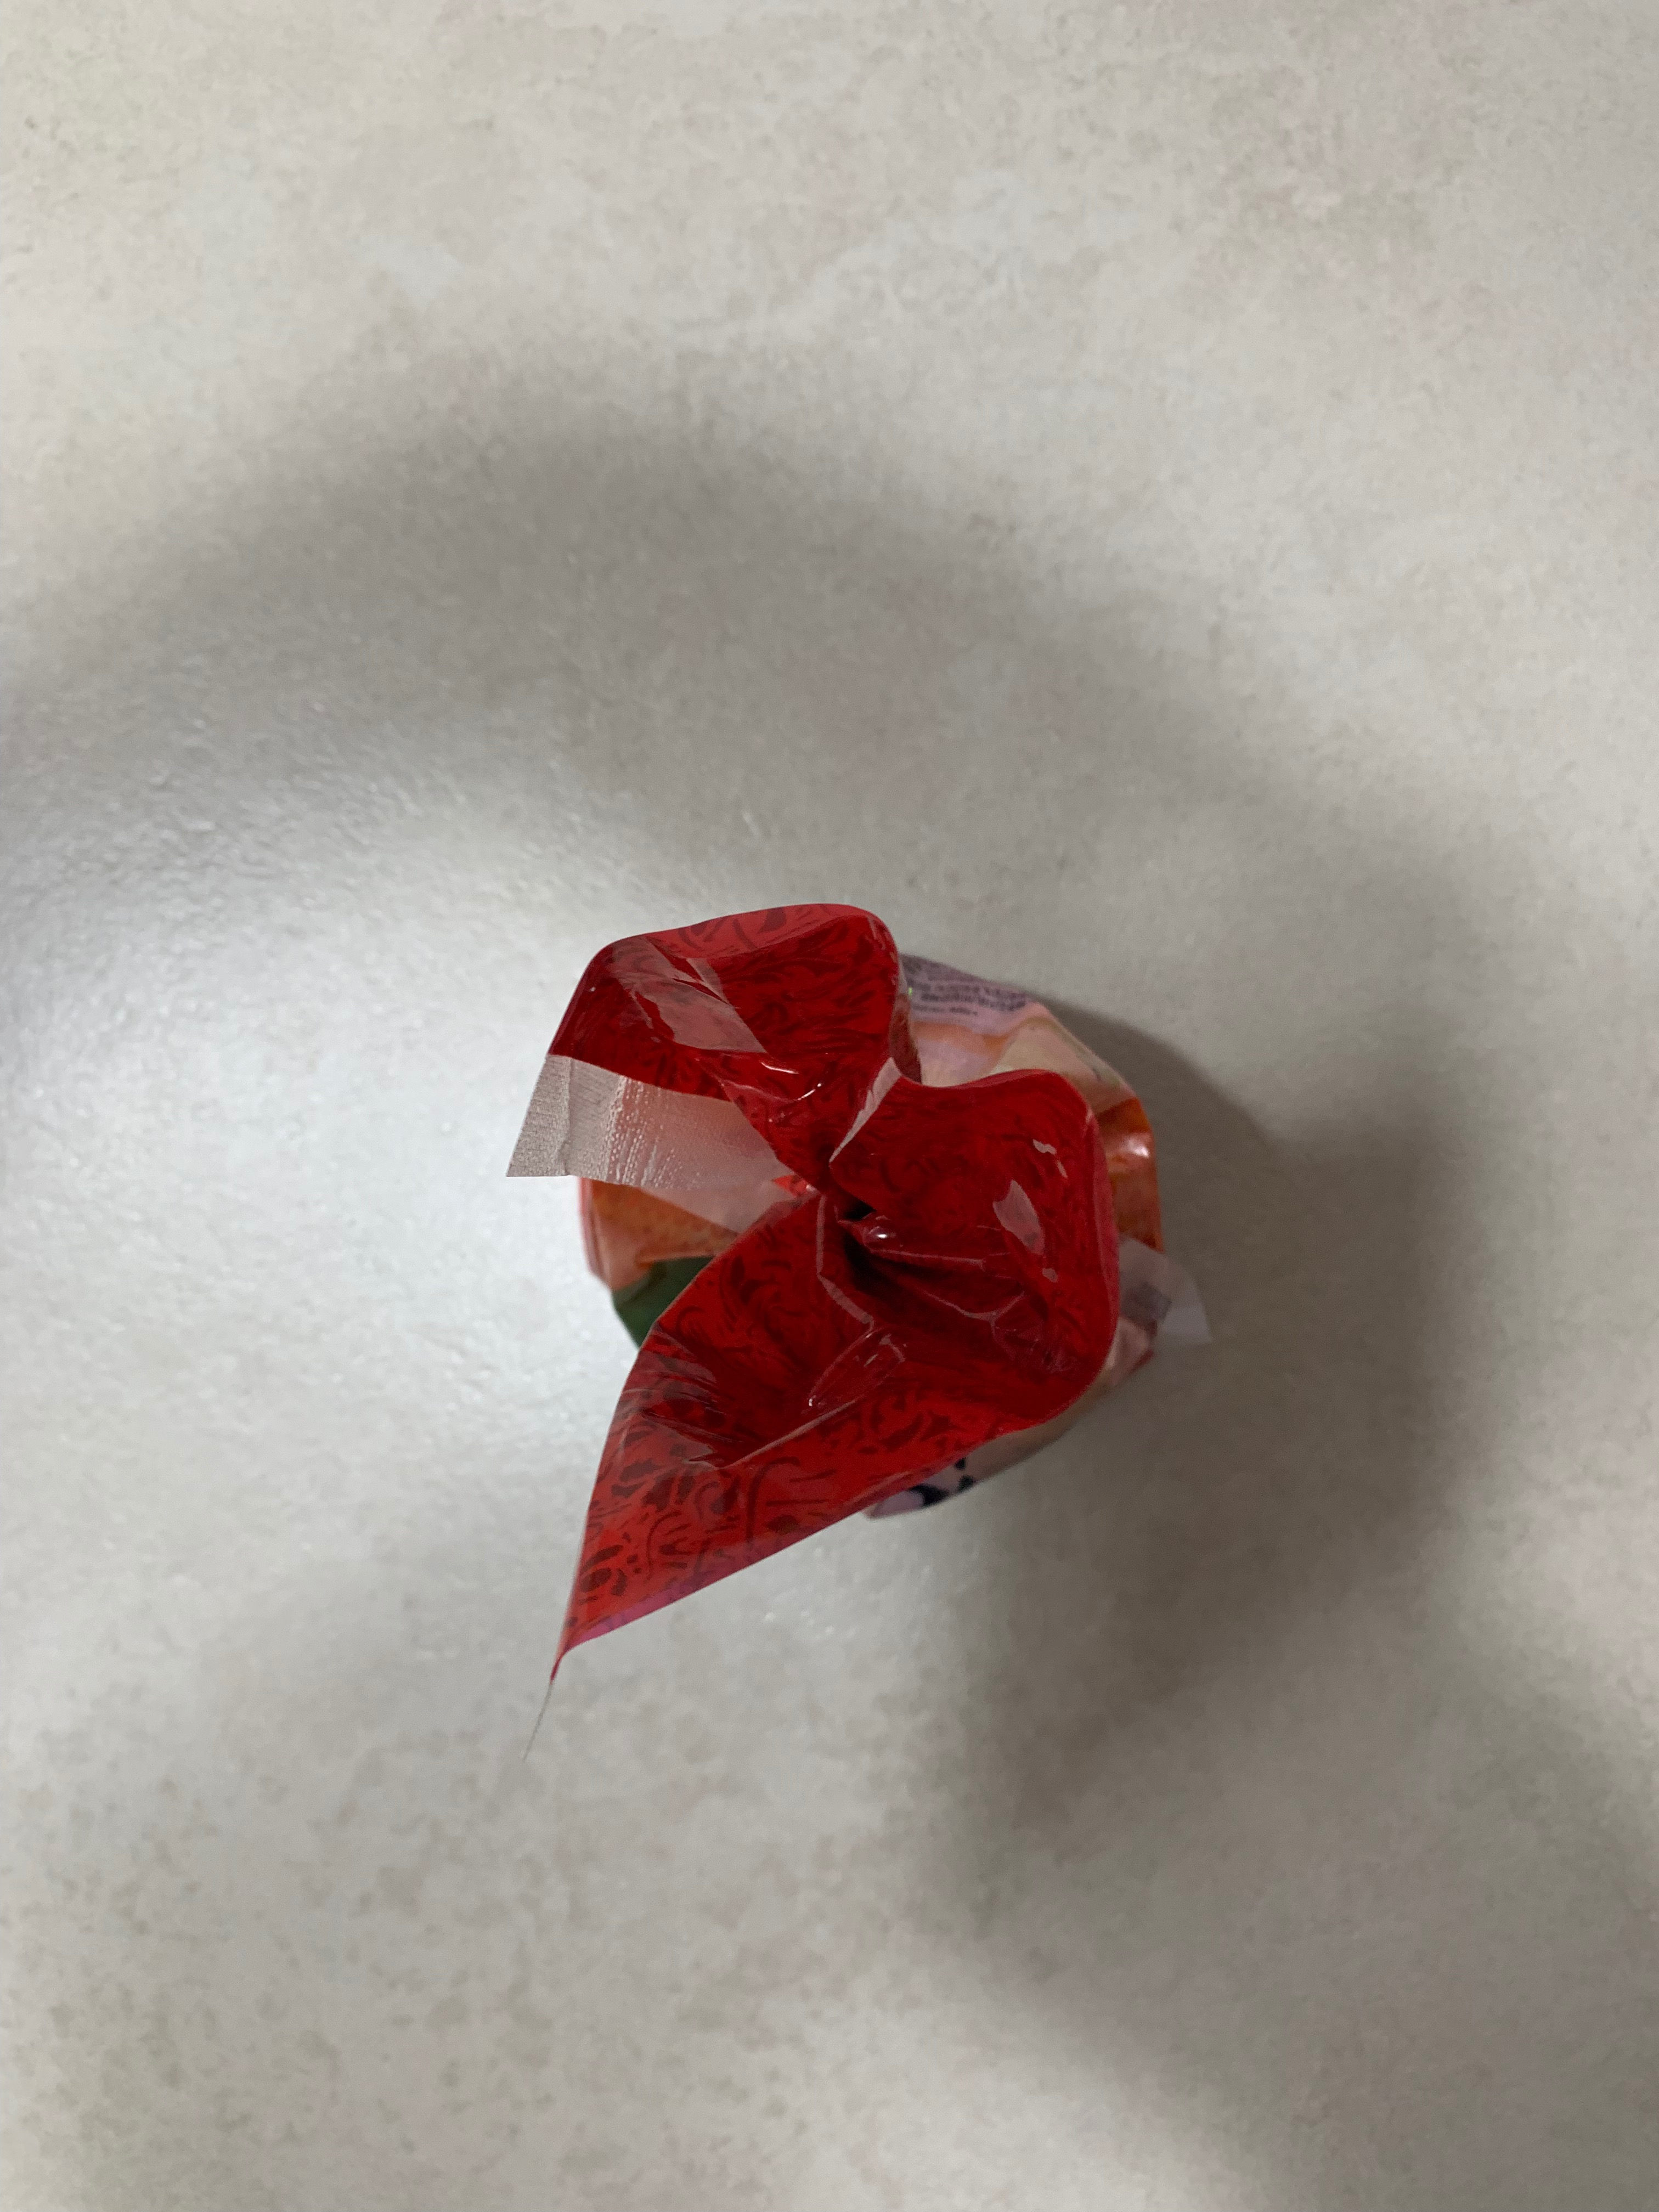kimchi: (549, 897, 1173, 1644)
